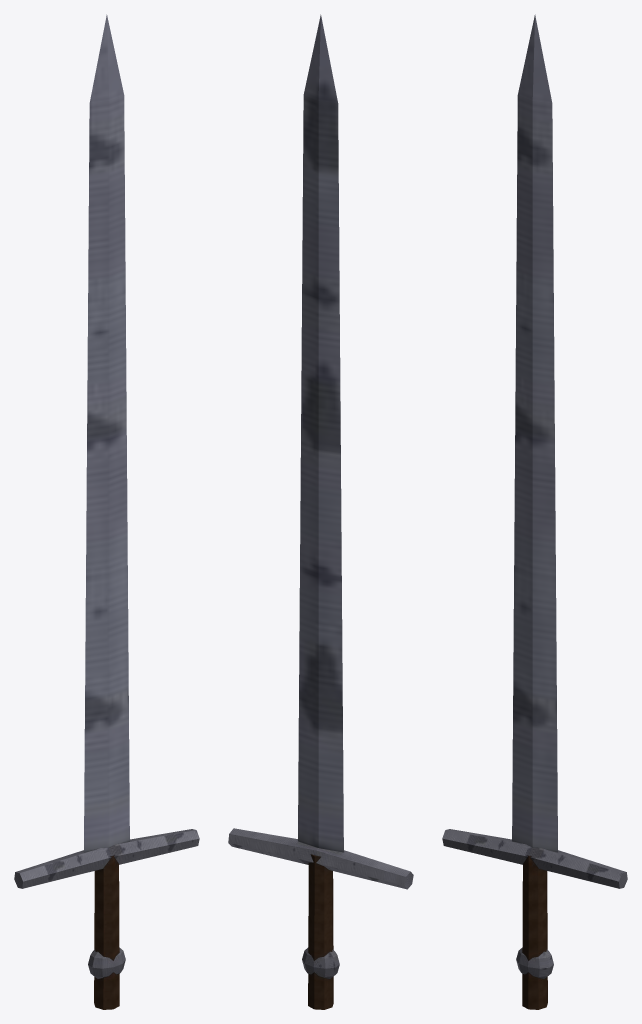
Rendered from w_greatsword.glb.
3 views of the same model, side by side, from view 1: azimuth 30°, elevation 25°; view 2: azimuth 150°, elevation 25°; view 3: azimuth 330°, elevation 25° (orthographic).
Visible parts, largest first — view 1: blade, hilt, grip; view 2: blade, hilt, grip; view 3: blade, hilt, grip.
Boxes of the visible parts, x1,y1,x2,y2 form: blade: (84, 14, 129, 852); hilt: (14, 829, 199, 978); grip: (94, 855, 119, 1009); blade: (298, 14, 343, 852); hilt: (228, 828, 413, 978); grip: (308, 854, 333, 1009); blade: (512, 14, 557, 852); hilt: (442, 829, 627, 978); grip: (522, 855, 547, 1009).
Bounding box in the file's own units: 0.2609 × 1.39 × 0.0364.
Materials: 3 (3 with a texture image).
